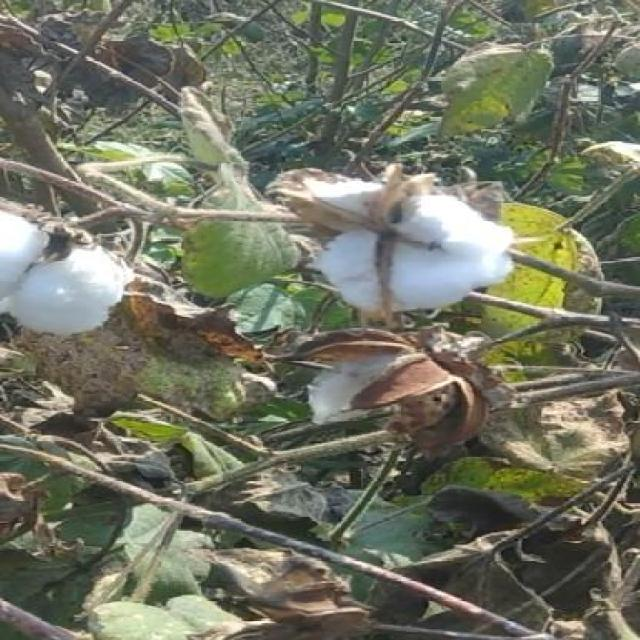cotton_ready: (312, 153, 531, 344)
